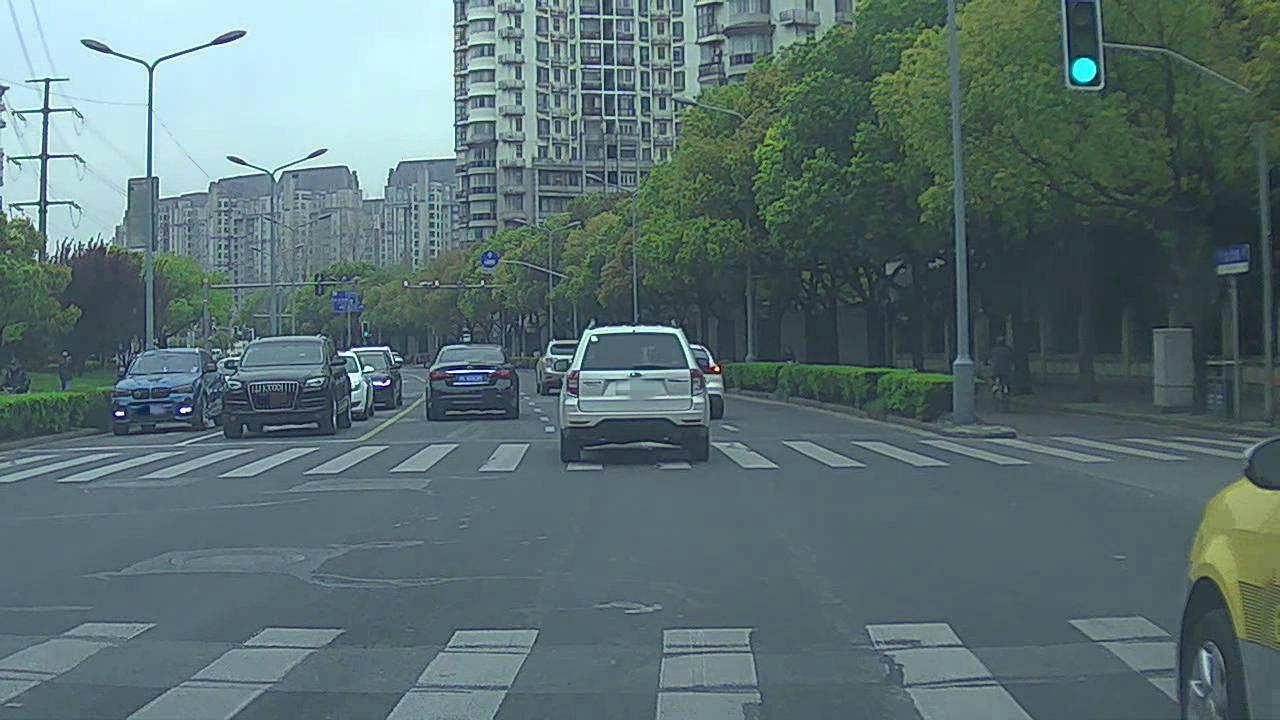traffic_light: (1061, 2, 1107, 90)
